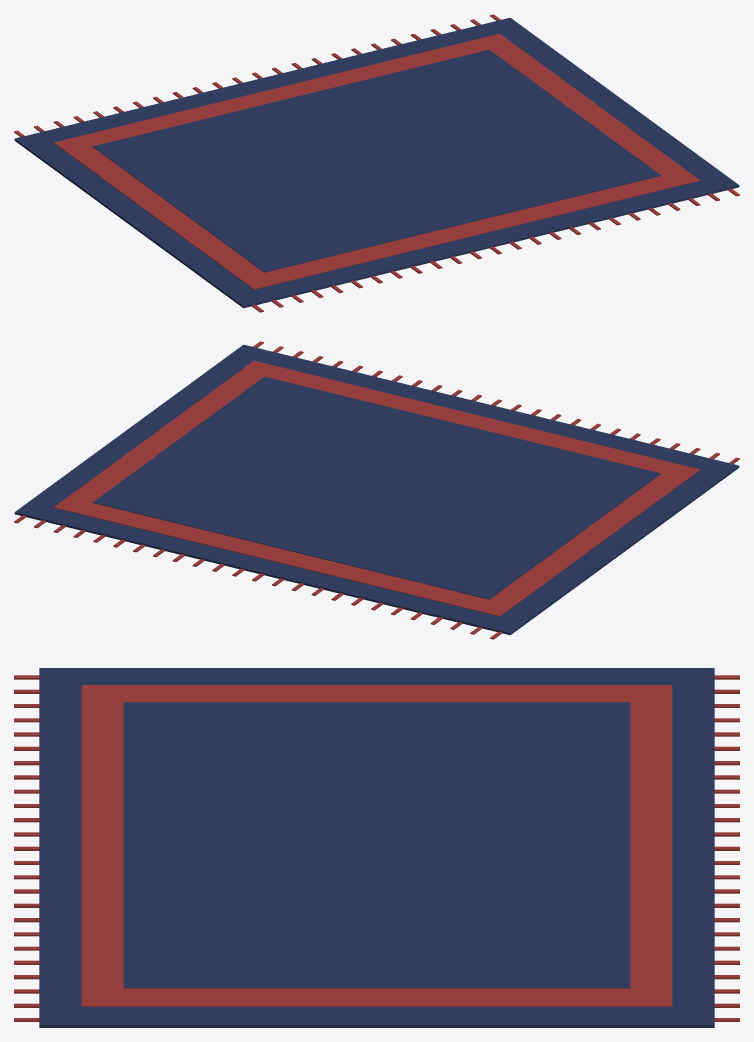
The model's file is rugStudy.fbx.
3 renders of one model, top to bottom at view 1: azimuth 30°, elevation 25°; view 2: azimuth 150°, elevation 25°; view 3: azimuth 270°, elevation 25°, orthographic. The views are drawn at different scales.
Visible parts, largest first — view 1: rugStudy; view 2: rugStudy; view 3: rugStudy.
Part boxes in pixels (<box>): rugStudy: <box>14,14,739,312</box>; rugStudy: <box>14,341,739,639</box>; rugStudy: <box>14,668,739,1027</box>.
Bounding box in the file's own units: 8 × 0.048 × 6.88.
